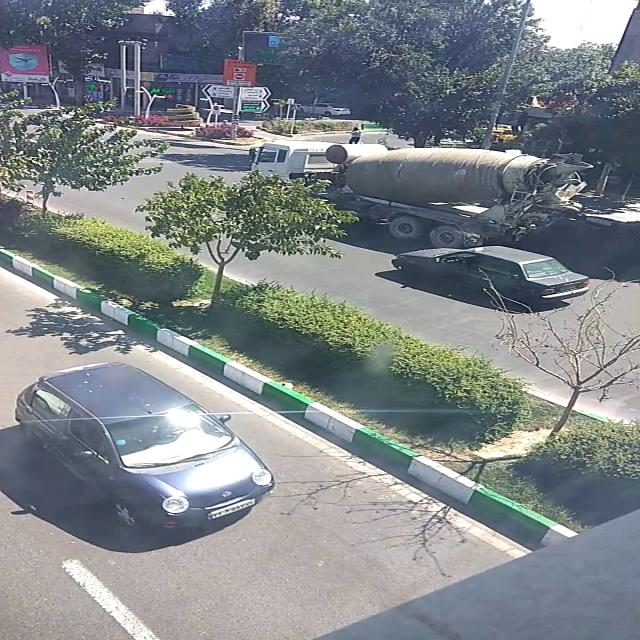car: (15, 363, 280, 531), (390, 246, 590, 301), (292, 104, 354, 116)
truck: (250, 141, 589, 245)
